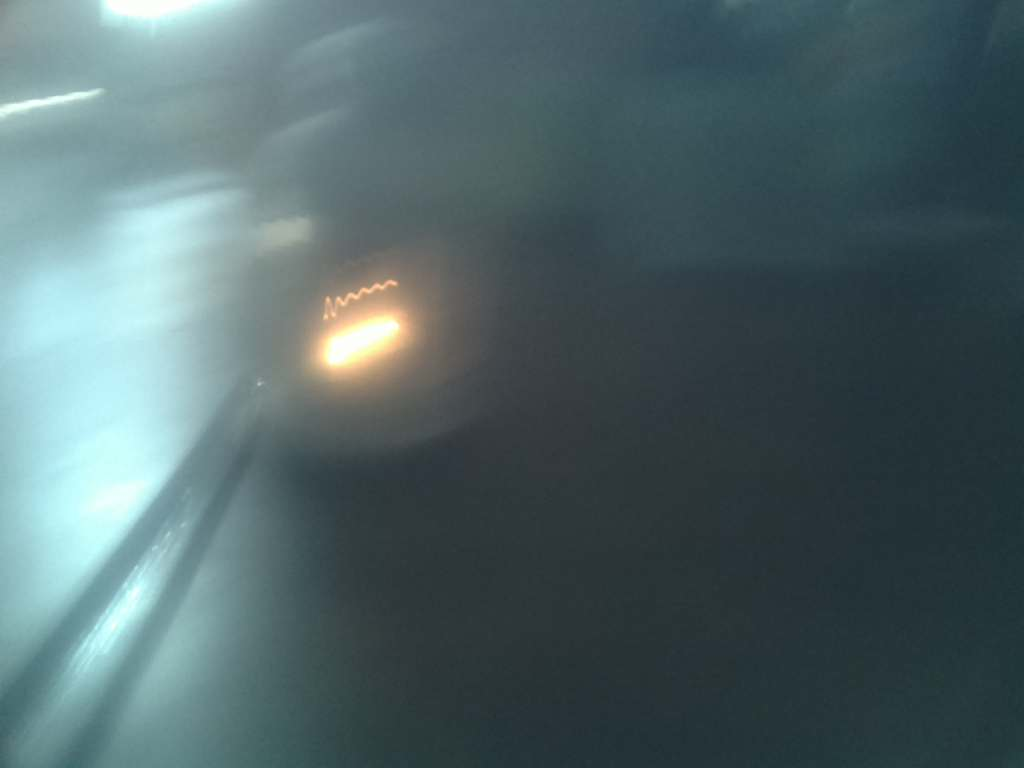fire: (301, 302, 430, 370)
